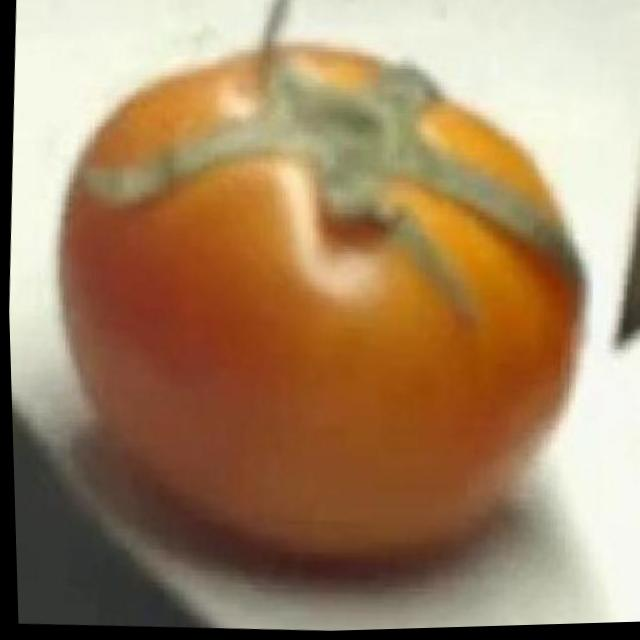tomato: (37, 27, 605, 587)
